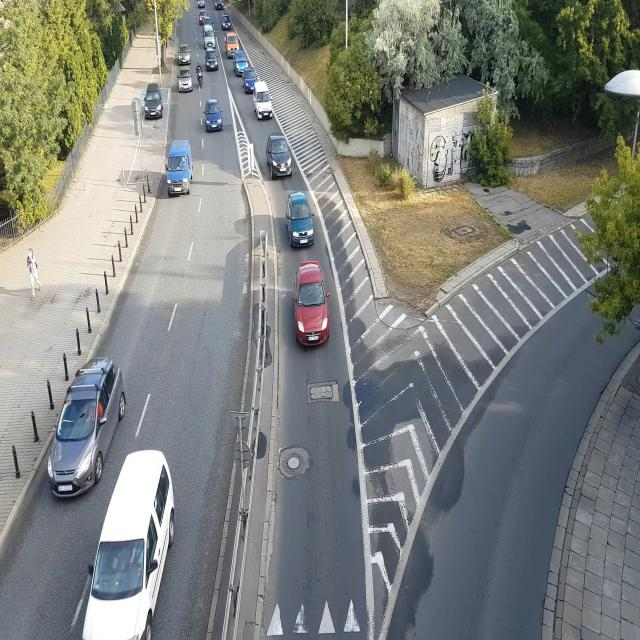car: (103, 458, 181, 640), (44, 349, 120, 486), (296, 262, 331, 347), (166, 138, 194, 198), (287, 192, 316, 249), (266, 136, 296, 180), (254, 80, 274, 120), (204, 98, 225, 134), (143, 88, 165, 120), (240, 66, 257, 90), (233, 50, 250, 73), (226, 33, 241, 56), (204, 25, 217, 50), (178, 75, 194, 93), (204, 51, 218, 71), (179, 46, 192, 66), (197, 8, 209, 27), (222, 18, 232, 30), (216, 2, 226, 11), (198, 0, 206, 10)
motorcycle: (196, 59, 203, 95)
